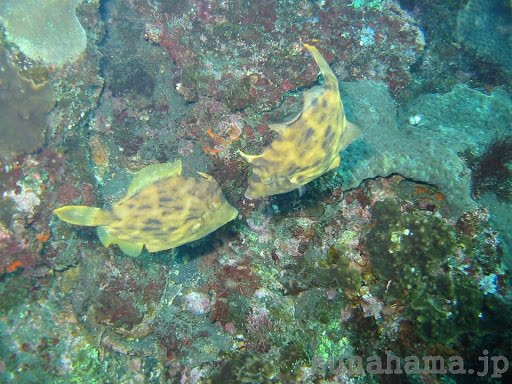kawahagi: (220, 42, 388, 210), (97, 167, 229, 256)
